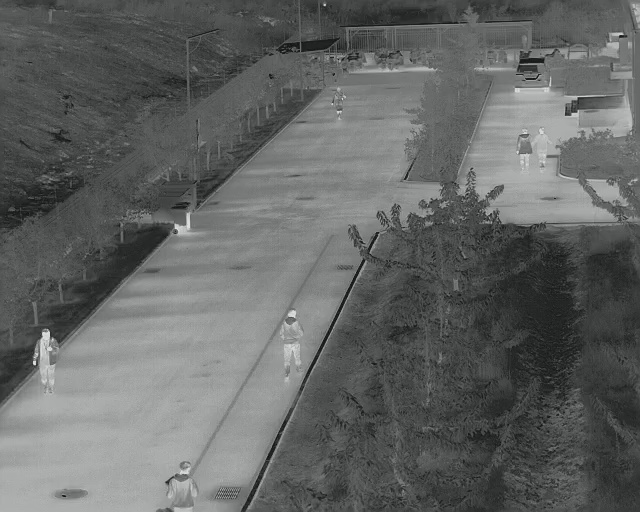person: (31, 327, 61, 396), (279, 307, 304, 381), (164, 461, 200, 512), (534, 126, 554, 170), (516, 126, 533, 174), (331, 85, 347, 120)
vehicle: (511, 56, 556, 94)
